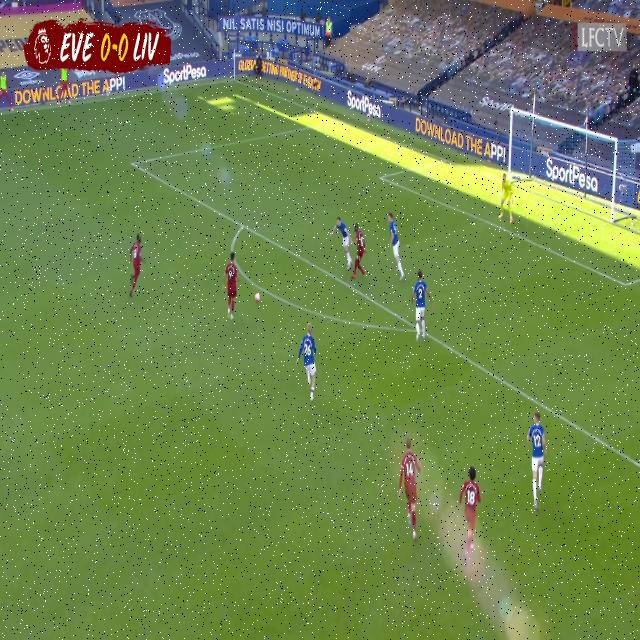Ball: (254, 294, 260, 304)
GoalKeeper: (498, 174, 516, 224)
TEAM 1: (398, 440, 422, 543), (459, 466, 481, 564), (224, 252, 241, 319), (129, 233, 145, 298), (353, 218, 366, 282)
TEAM 2: (528, 413, 549, 508), (296, 326, 319, 403), (331, 214, 355, 276), (411, 270, 429, 344), (388, 212, 405, 278)
